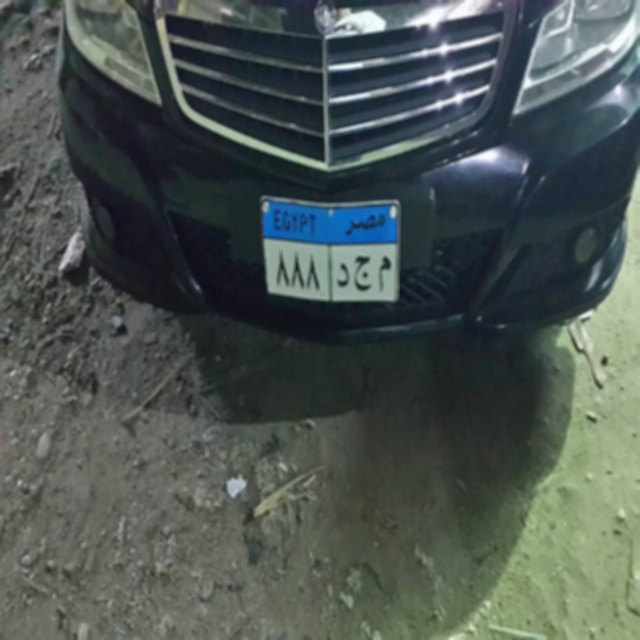License Plate: (260, 195, 401, 306)
